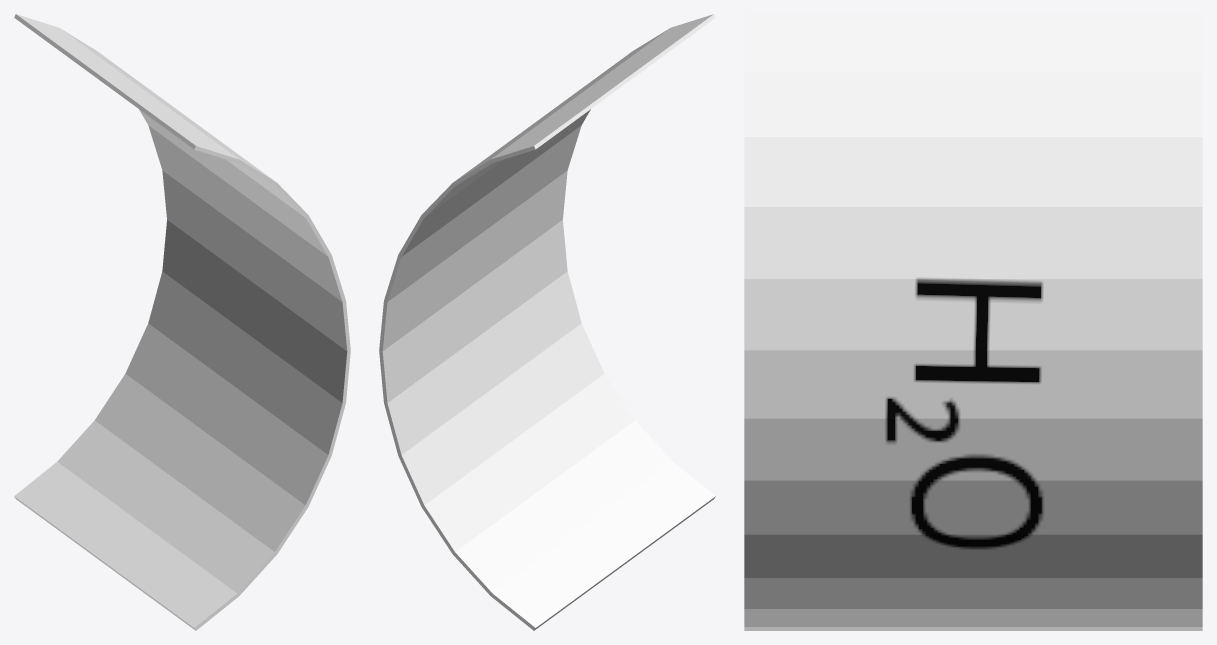
The model's file is Water etichetta.fbx.
3 views of the same model, side by side, from view 1: azimuth 30°, elevation 25°; view 2: azimuth 150°, elevation 25°; view 3: azimuth 270°, elevation 25° (orthographic). The views are drawn at different scales.
Parts seen in each view (by area): view 1: Bottiglia base.001; view 2: Bottiglia base.001; view 3: Bottiglia base.001.
Part boxes in pixels (x1,y1,x2,y2): Bottiglia base.001: [14, 14, 350, 630]; Bottiglia base.001: [379, 14, 715, 630]; Bottiglia base.001: [744, 14, 1202, 630].
Size of the model in its own units: 4.37 by 12.94 by 8.72.
